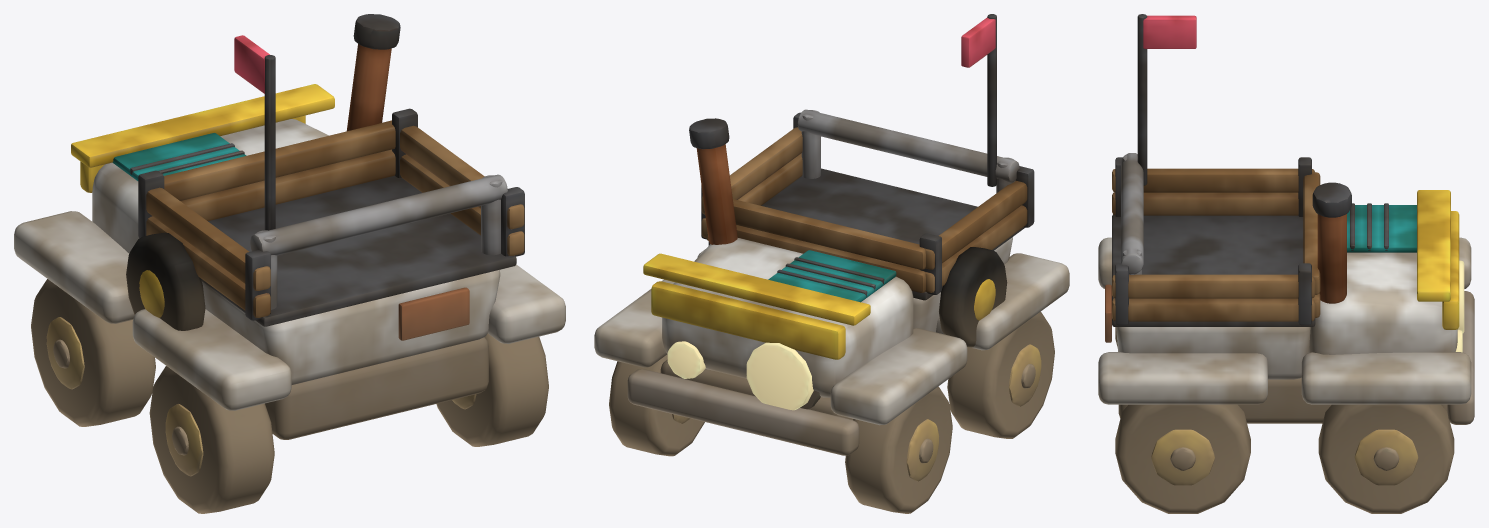
File: companion_cart.glb
3 renders of one model, left to right at view 1: azimuth 30°, elevation 25°; view 2: azimuth 150°, elevation 25°; view 3: azimuth 270°, elevation 25°, orthographic. The views are drawn at different scales.
Parts seen in each view (by area): view 1: CompanionCart; view 2: CompanionCart; view 3: CompanionCart.
Part boxes in pixels (box(x1,y1,x2,y2)): CompanionCart: box(14, 14, 565, 513); CompanionCart: box(594, 14, 1069, 513); CompanionCart: box(1098, 14, 1474, 513).
Bounding box in the file's own units: 1 × 1.27 × 1.11.
Materials: 3 (3 with a texture image).
